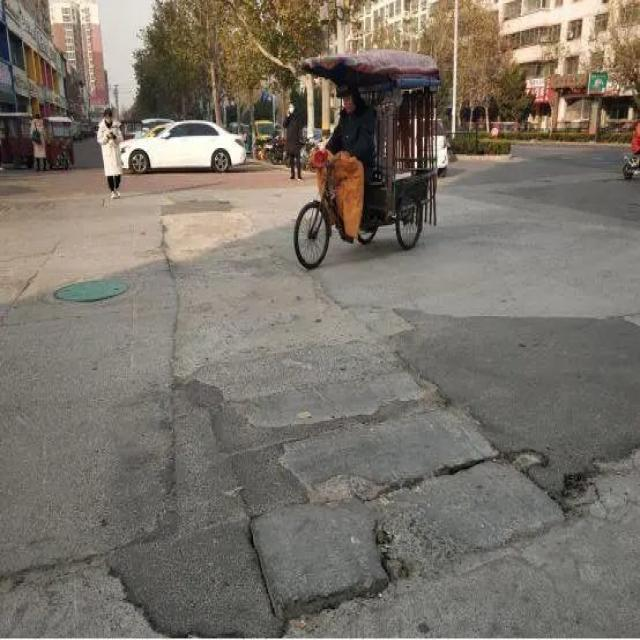Pothole: (245, 450, 639, 625)
